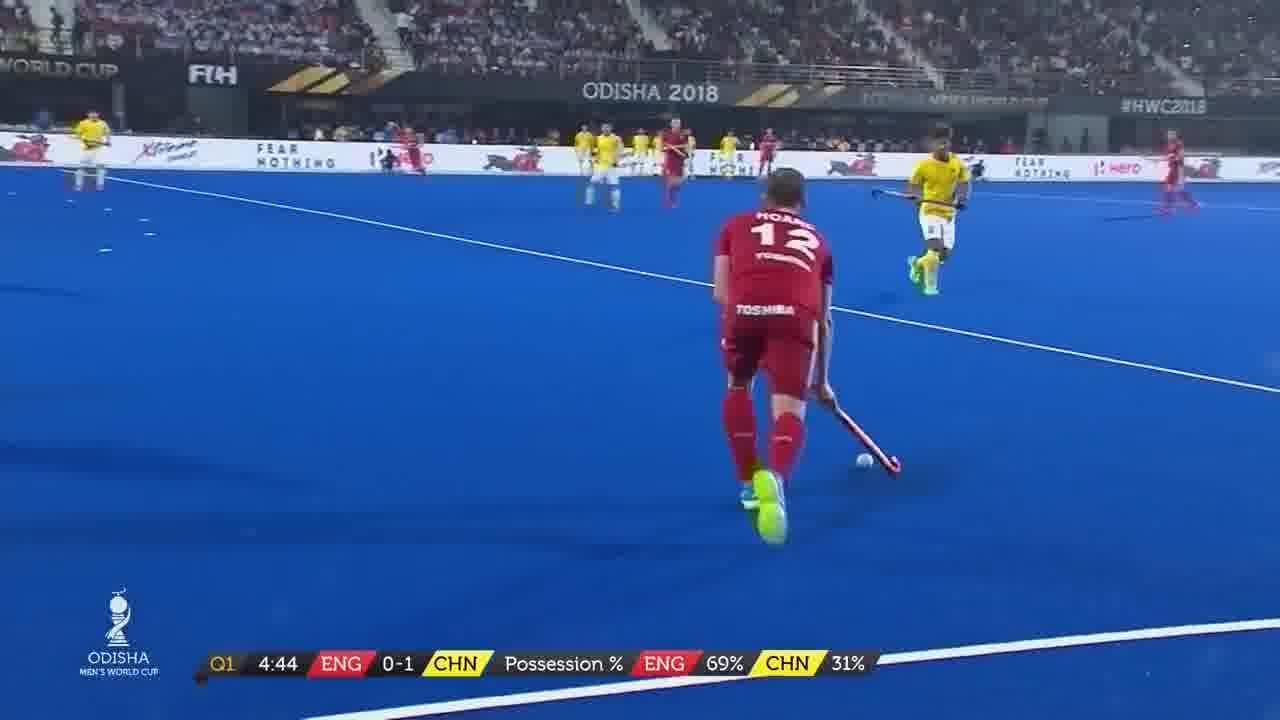ball: (852, 434, 878, 488)
